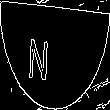N_N: (44, 28, 66, 82)
